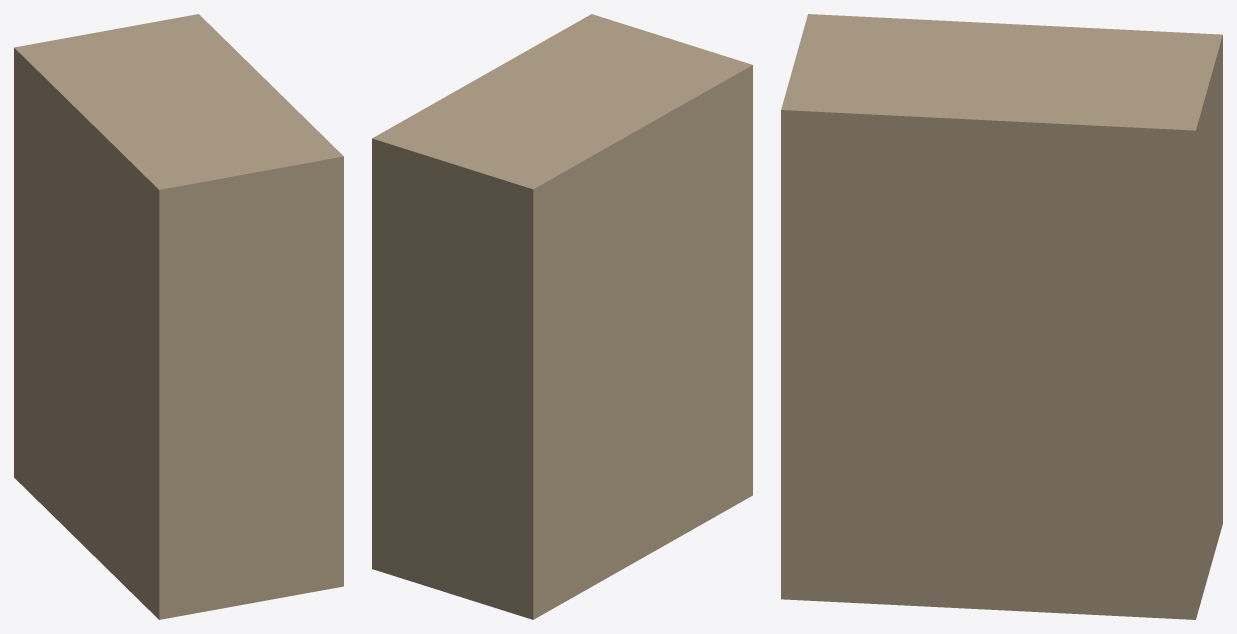
Rendered from bld_108165897.dae.
3 renders of one model, left to right at view 1: azimuth 30°, elevation 25°; view 2: azimuth 150°, elevation 25°; view 3: azimuth 270°, elevation 25°, orthographic. The views are drawn at different scales.
Parts seen in each view (by area): view 1: bld_108165897; view 2: bld_108165897; view 3: bld_108165897.
Boxes of the visible parts, <box> form: bld_108165897: <box>14,14,343,619</box>; bld_108165897: <box>372,14,752,619</box>; bld_108165897: <box>781,14,1222,619</box>.
Size of the model in its own units: 4.09 by 6.55 by 8.
